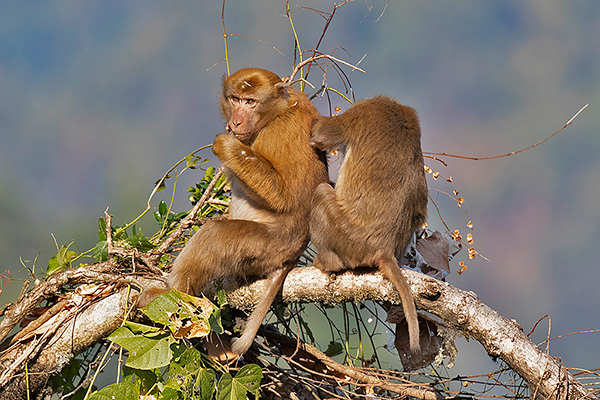monkey: (160, 61, 319, 352), (316, 69, 441, 360)
